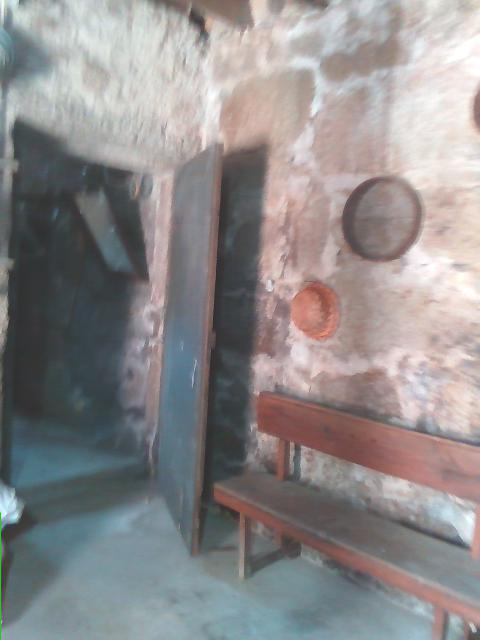open_door: (1, 118, 180, 522)
